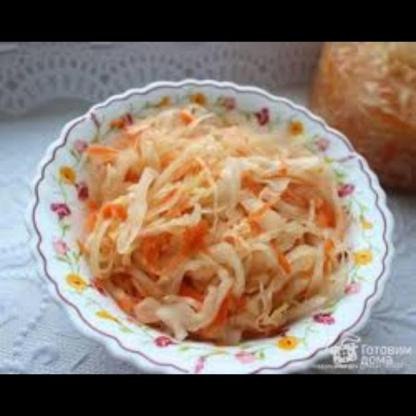cabbage: (89, 111, 349, 350)
carrot: (140, 219, 213, 257), (285, 183, 343, 223), (206, 285, 243, 329), (100, 200, 134, 226)
